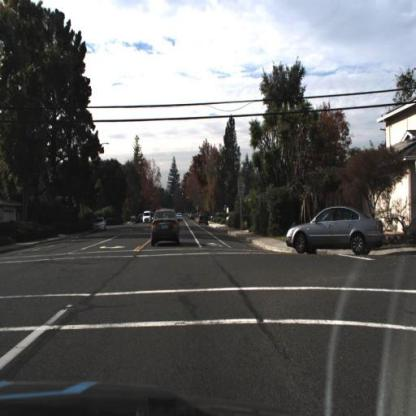car: (286, 205, 386, 256), (150, 208, 179, 245), (93, 215, 107, 233), (198, 210, 209, 226), (142, 208, 152, 224)
